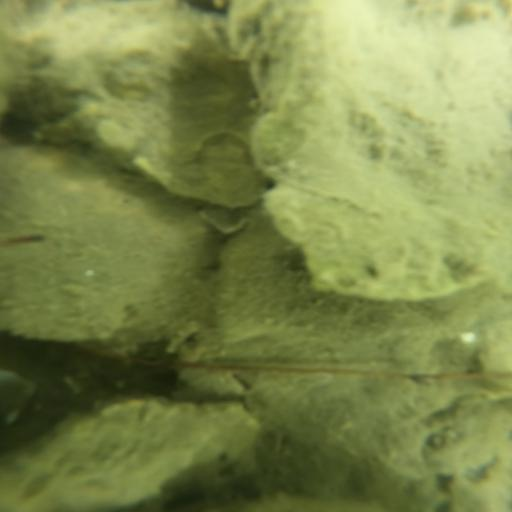Oyster-Closed: (229, 1, 512, 298), (2, 1, 262, 214), (2, 143, 216, 349), (1, 399, 261, 512)
